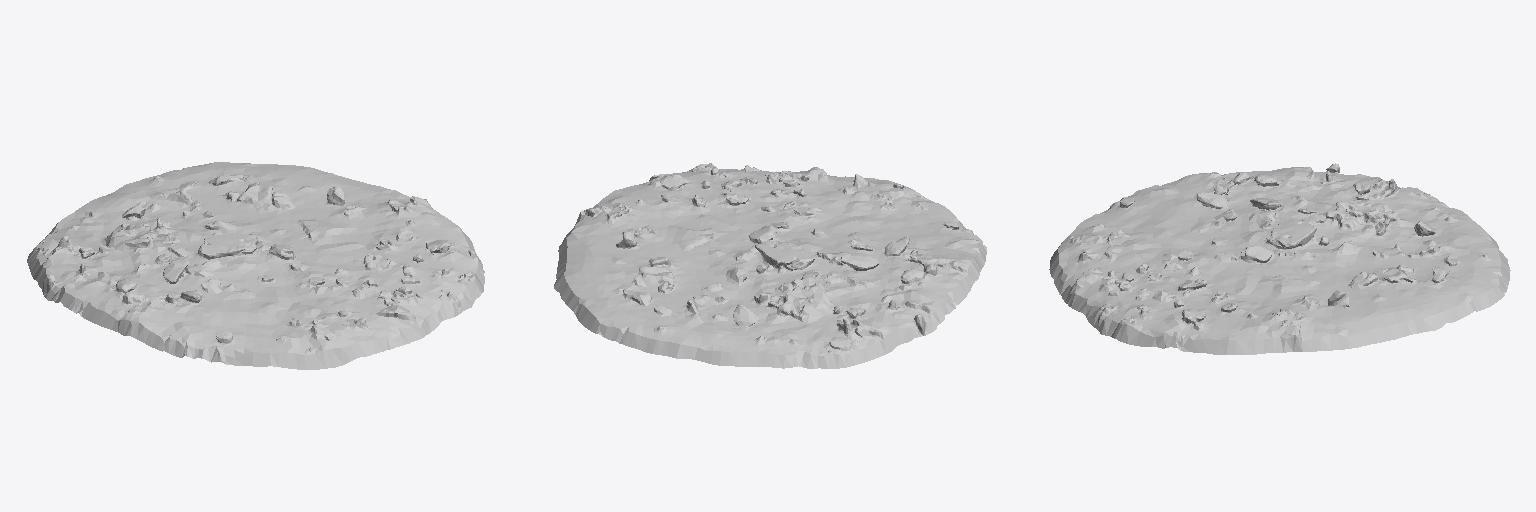
3 views of the same model, side by side, from view 1: azimuth 30°, elevation 25°; view 2: azimuth 150°, elevation 25°; view 3: azimuth 270°, elevation 25° (orthographic).
Visible parts, largest first — view 1: Aset_rock_sandstone_S_rlerz_LOD0; view 2: Aset_rock_sandstone_S_rlerz_LOD0; view 3: Aset_rock_sandstone_S_rlerz_LOD0.
Part boxes in pixels (x1,y1,x2,y2): Aset_rock_sandstone_S_rlerz_LOD0: (27,162,484,369); Aset_rock_sandstone_S_rlerz_LOD0: (554,163,986,368); Aset_rock_sandstone_S_rlerz_LOD0: (1049,163,1510,354).
Bounding box in the file's own units: 1.26 × 0.1251 × 1.34.